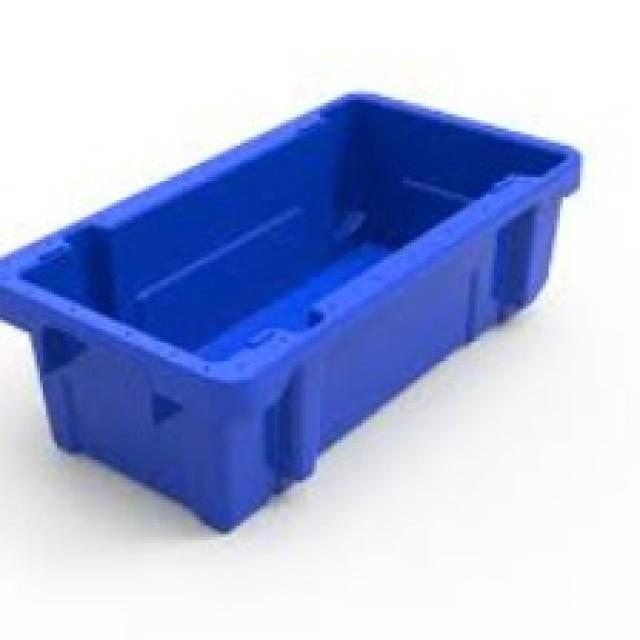plastic: (4, 65, 608, 528)
